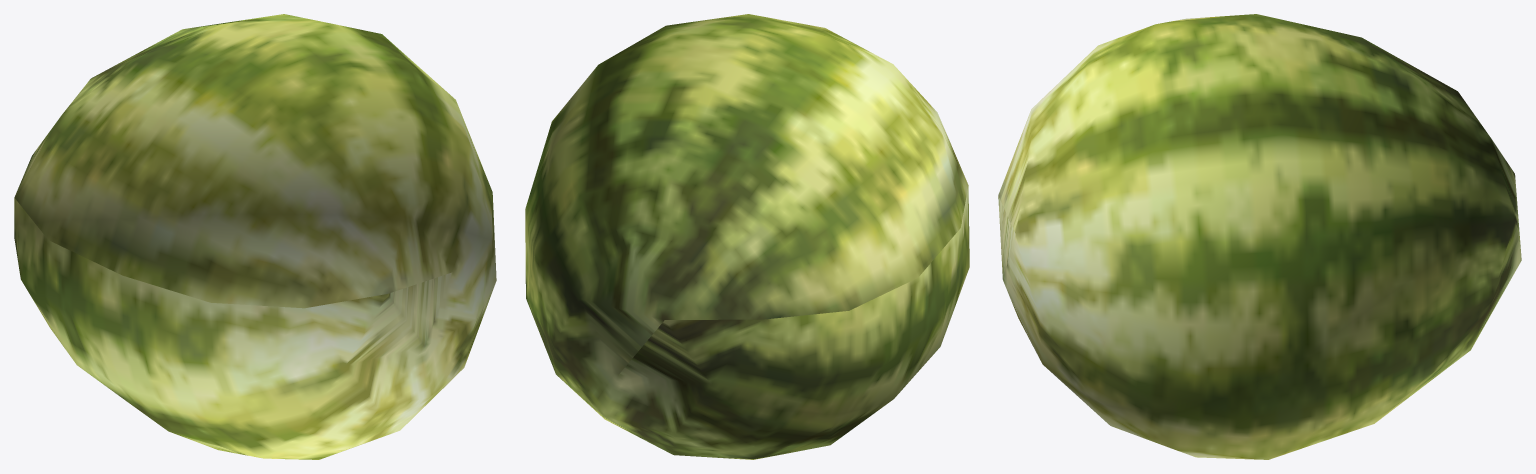
The model's file is watermelon.glb.
3 views of the same model, side by side, from view 1: azimuth 30°, elevation 25°; view 2: azimuth 150°, elevation 25°; view 3: azimuth 270°, elevation 25° (orthographic). The views are drawn at different scales.
Parts seen in each view (by area): view 1: watermelon01; view 2: watermelon01; view 3: watermelon01.
Boxes of the visible parts, x1,y1,x2,y2 form: watermelon01: [14, 14, 496, 459]; watermelon01: [525, 14, 969, 459]; watermelon01: [998, 14, 1521, 459].
Bounding box in the file's own units: 14.92 × 14.65 × 17.15.
1 material, 1 textured.
